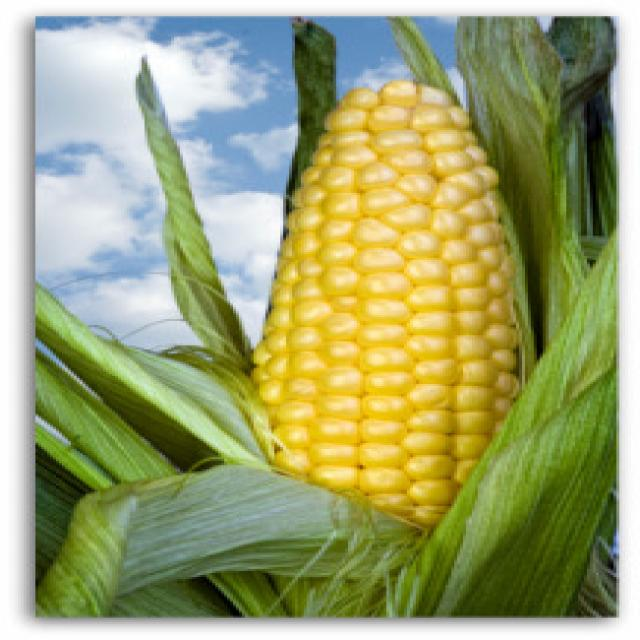Corn: (82, 31, 584, 606)
